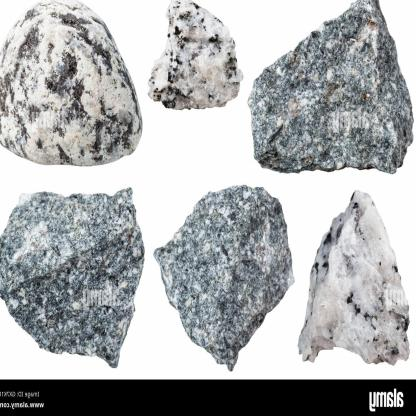Igneous_Diorite: (250, 0, 412, 173), (0, 186, 148, 369), (158, 182, 295, 372), (1, 0, 144, 159), (298, 188, 413, 368), (146, 0, 238, 123)
